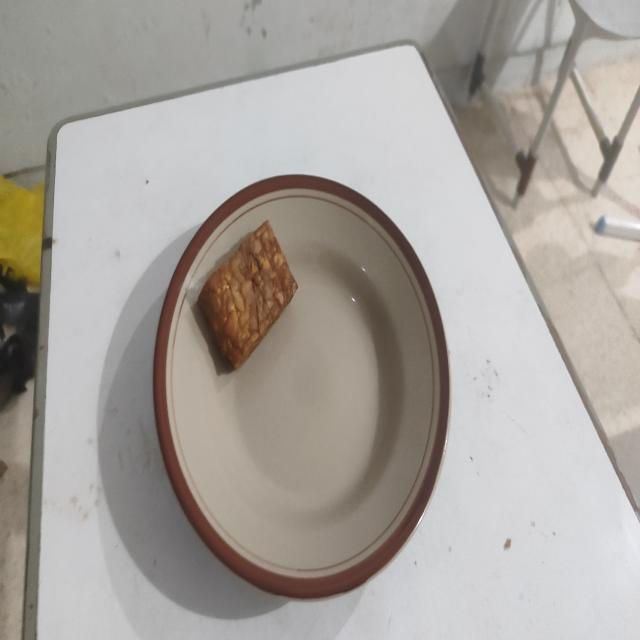tempe_goreng: (198, 221, 298, 369)
